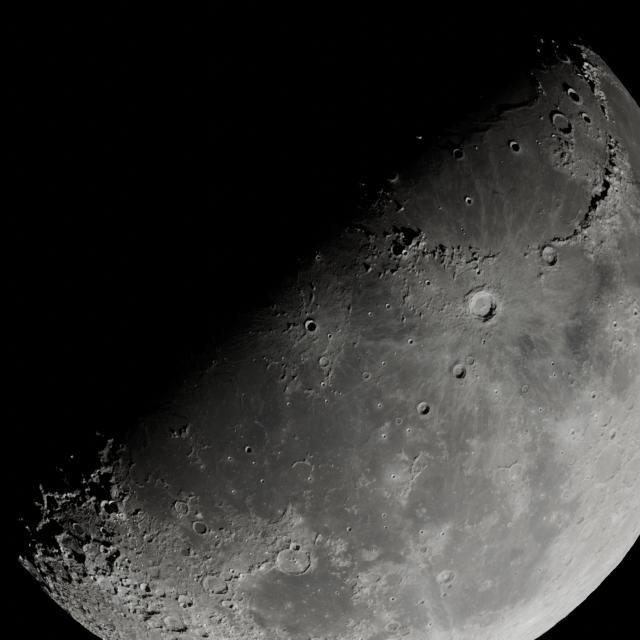crater: (464, 286, 498, 321), (275, 546, 312, 575), (493, 464, 517, 486), (451, 360, 471, 380), (551, 112, 571, 132), (205, 576, 227, 594), (163, 615, 185, 632), (291, 460, 313, 474), (385, 572, 403, 587), (436, 570, 454, 584), (192, 624, 211, 637), (542, 249, 558, 264), (178, 594, 195, 608), (416, 401, 431, 416), (192, 521, 208, 535), (72, 522, 86, 538), (174, 501, 189, 515), (429, 552, 445, 565), (303, 318, 317, 332), (567, 88, 581, 102), (556, 51, 571, 64), (508, 139, 521, 153), (388, 172, 400, 185), (481, 580, 494, 592), (386, 622, 401, 632), (452, 148, 463, 160), (144, 534, 156, 544), (344, 578, 356, 588), (154, 588, 166, 598), (562, 555, 572, 566), (581, 112, 591, 123), (464, 195, 474, 206), (318, 357, 329, 367), (139, 582, 150, 592), (364, 264, 374, 274), (562, 489, 571, 500), (435, 252, 444, 263), (465, 356, 475, 365), (520, 384, 529, 394), (609, 429, 617, 439), (290, 543, 300, 551), (576, 516, 584, 525), (244, 445, 252, 454), (269, 303, 278, 311), (373, 575, 382, 583), (395, 417, 403, 425), (420, 546, 428, 554), (418, 599, 426, 606), (362, 372, 370, 379), (569, 428, 576, 436), (389, 596, 396, 603), (407, 338, 414, 345), (617, 335, 624, 342), (315, 253, 322, 260), (228, 603, 235, 610), (440, 592, 448, 598), (591, 392, 597, 399), (334, 590, 340, 596), (320, 381, 326, 387), (419, 529, 425, 535), (346, 526, 352, 532), (227, 455, 233, 461), (440, 530, 446, 536), (381, 433, 387, 439), (424, 280, 430, 286), (381, 361, 387, 367), (550, 361, 556, 367), (385, 303, 391, 309), (367, 311, 373, 317), (613, 321, 619, 327), (475, 269, 481, 275), (406, 427, 412, 433), (402, 249, 408, 255), (377, 402, 382, 409), (482, 338, 486, 346), (381, 513, 387, 518), (383, 524, 388, 530), (327, 333, 332, 339), (251, 460, 256, 466), (538, 406, 543, 412), (539, 114, 544, 120), (401, 316, 406, 322), (324, 398, 329, 403), (391, 474, 396, 479), (552, 372, 557, 377), (260, 478, 264, 484), (494, 388, 498, 394), (618, 300, 624, 304), (637, 309, 640, 316), (286, 401, 290, 406)
rock: (384, 277, 449, 336), (36, 518, 69, 551), (82, 541, 108, 570), (348, 222, 378, 243), (266, 500, 291, 525), (296, 283, 316, 314), (594, 183, 616, 211), (409, 451, 431, 477), (580, 60, 601, 87), (18, 554, 41, 578), (124, 496, 145, 518), (360, 545, 382, 562), (45, 493, 62, 512), (70, 548, 86, 566), (169, 424, 189, 438), (105, 548, 120, 566), (115, 584, 133, 598), (102, 500, 119, 514), (253, 420, 267, 436), (121, 495, 133, 511), (146, 603, 162, 615), (227, 625, 244, 636), (601, 414, 613, 429), (61, 567, 72, 582), (272, 308, 288, 318), (580, 60, 591, 74), (387, 263, 399, 274), (285, 321, 297, 332), (314, 532, 322, 546), (599, 103, 607, 116), (100, 526, 110, 536), (278, 369, 287, 380), (412, 452, 420, 462), (378, 268, 385, 278), (25, 524, 32, 534), (396, 205, 404, 213), (96, 431, 104, 438), (345, 304, 351, 312), (358, 182, 366, 188), (112, 586, 118, 594), (540, 38, 546, 44), (18, 516, 24, 522), (536, 48, 542, 53), (416, 135, 422, 140), (70, 454, 74, 460)
